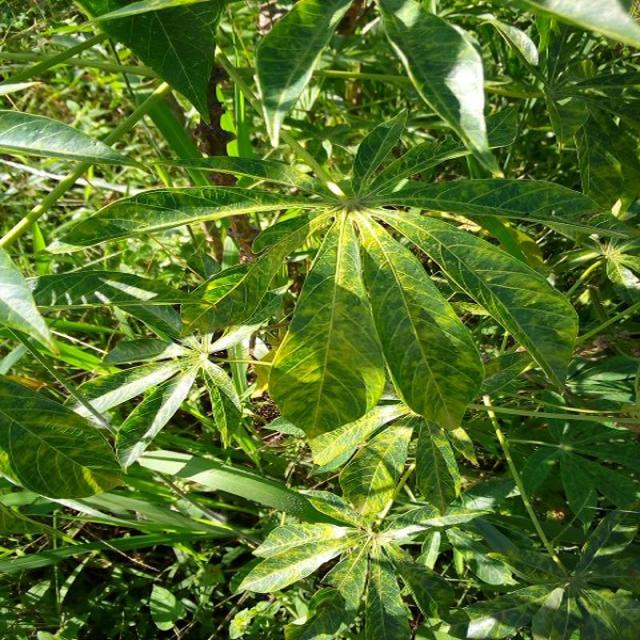cassava leaf: (354, 209, 484, 431), (268, 209, 387, 440), (376, 0, 490, 158)
